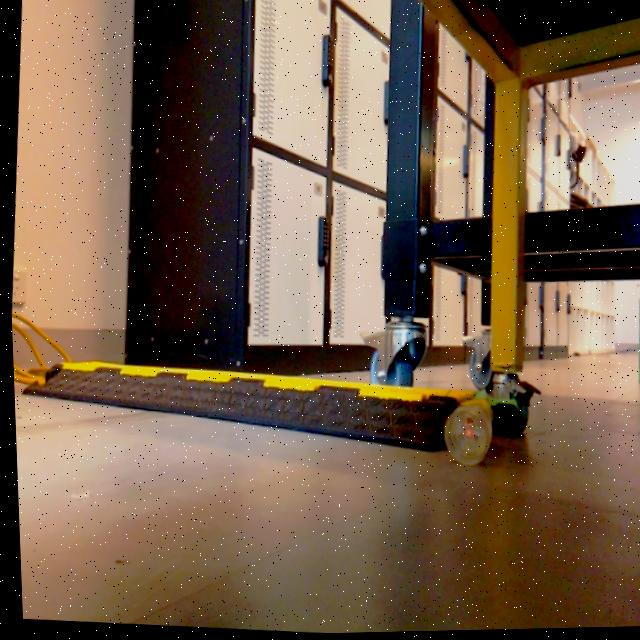greenpringles: (621, 295, 640, 395)
